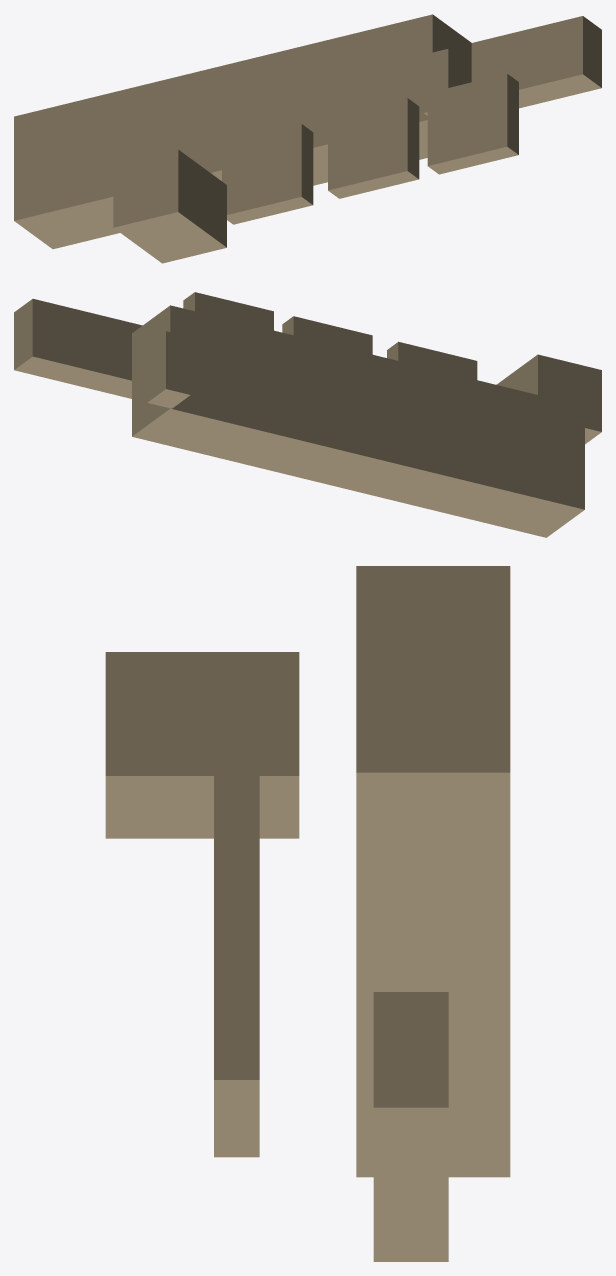
Rendered from bulk_box.glb.
The picture shows the model from 3 angles, top to bottom: view 1: azimuth 30°, elevation 25°; view 2: azimuth 150°, elevation 25°; view 3: azimuth 270°, elevation 25°; orthographic projection. The views are drawn at different scales.
Visible parts, largest first — view 1: bulk; view 2: bulk; view 3: bulk.
Part boxes in pixels (bbox=[...]): bulk: bbox=[14, 14, 601, 263]; bulk: bbox=[14, 292, 601, 537]; bulk: bbox=[105, 566, 510, 1261].
Size of the model in its own units: 4.44 by 0.8 by 1.42.
